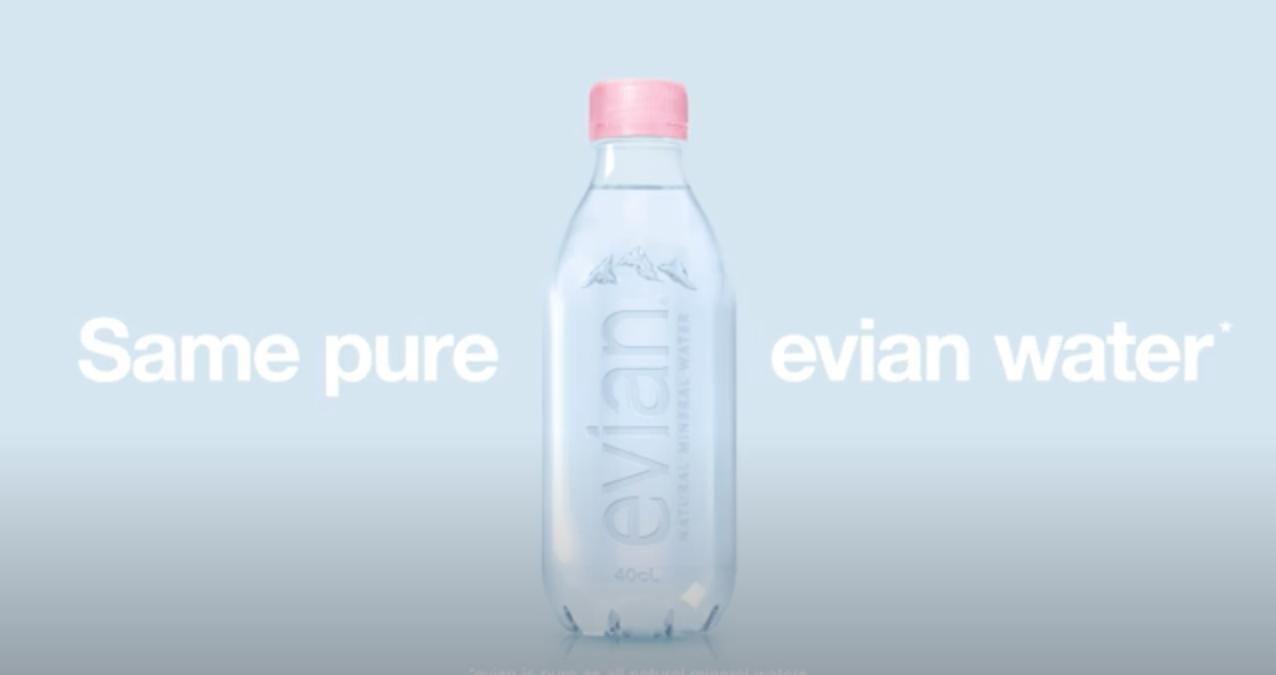bottle: (537, 70, 740, 648)
